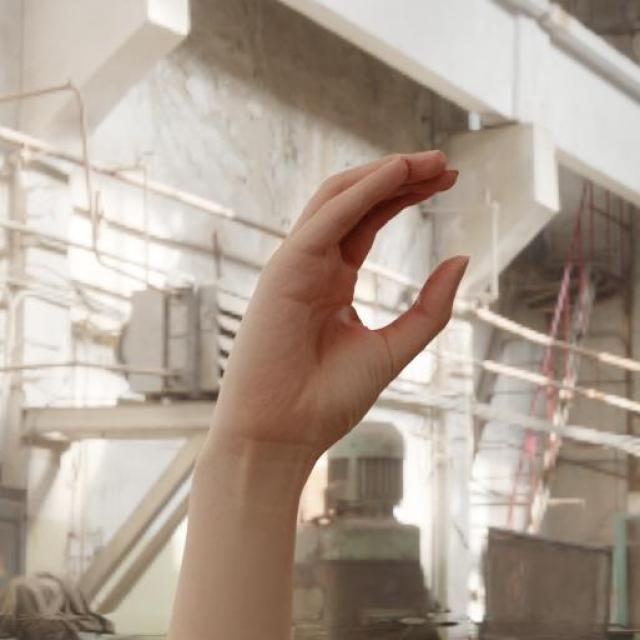C: (196, 150, 474, 438)
